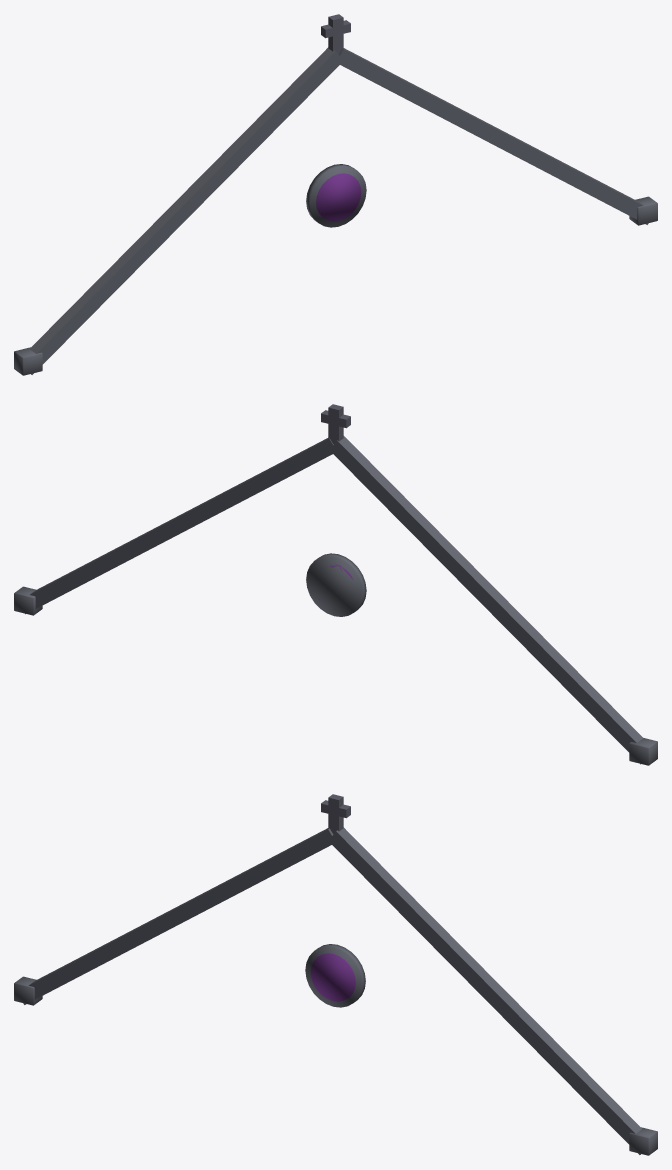
The model's file is kit_church_gable_w9.glb.
3 views of the same model, one above another, from view 1: azimuth 30°, elevation 25°; view 2: azimuth 150°, elevation 25°; view 3: azimuth 330°, elevation 25° (orthographic).
Parts seen in each view (by area): view 1: kit_church_gable_w9; view 2: kit_church_gable_w9; view 3: kit_church_gable_w9.
Part boxes in pixels (x1=…): kit_church_gable_w9: x1=14, y1=14, x2=657, y2=375; kit_church_gable_w9: x1=14, y1=404, x2=657, y2=765; kit_church_gable_w9: x1=14, y1=794, x2=657, y2=1155.
Size of the model in its own units: 9.42 by 3.97 by 0.24.
